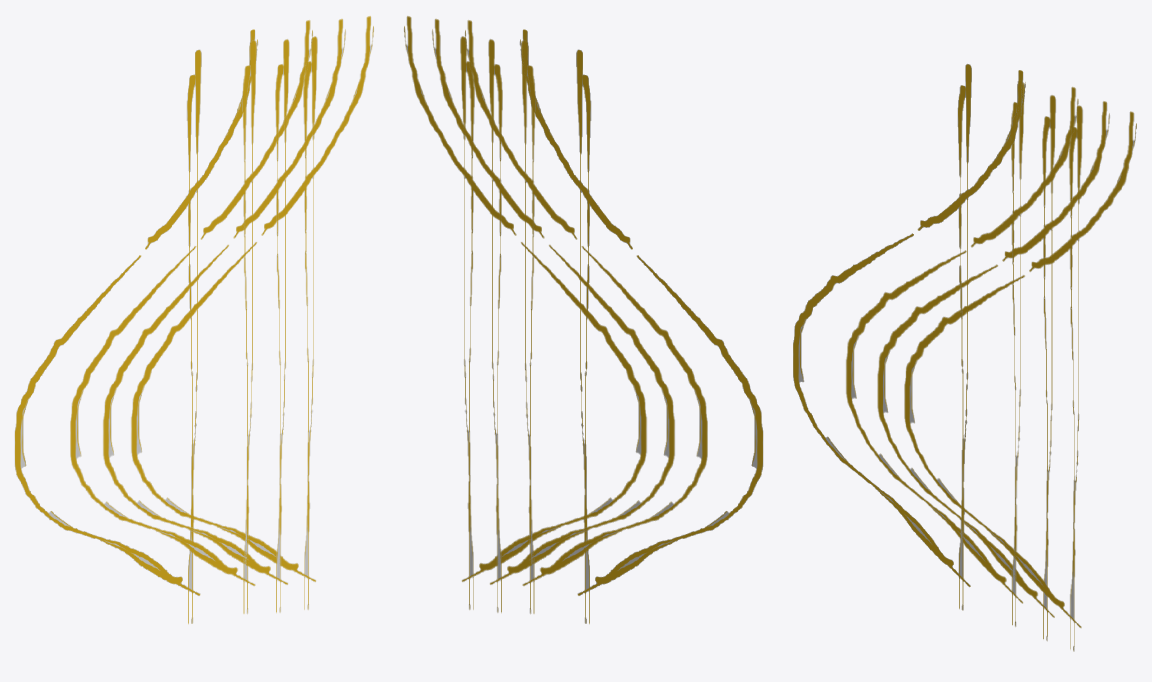
The model's file is claradix-spiral-model.glb.
3 renders of one model, left to right at view 1: azimuth 30°, elevation 25°; view 2: azimuth 150°, elevation 25°; view 3: azimuth 330°, elevation 25°, orthographic. The views are drawn at different scales.
Visible parts, largest first — view 1: mesh_id117, mesh_id118, mesh_id119, mesh_id115, mesh_id104; view 2: mesh_id117, mesh_id118, mesh_id119, mesh_id115, mesh_id104; view 3: mesh_id118, mesh_id115, mesh_id119, mesh_id117, mesh_id104.
Part boxes in pixels (<box>): mesh_id117: <box>70,20,312,613</box>; mesh_id118: <box>103,19,345,612</box>; mesh_id119: <box>131,16,373,609</box>; mesh_id115: <box>15,29,257,623</box>; mesh_id104: <box>15,30,254,623</box>; mesh_id117: <box>465,20,707,613</box>; mesh_id118: <box>432,19,674,612</box>; mesh_id119: <box>404,16,646,609</box>; mesh_id115: <box>520,29,762,623</box>; mesh_id104: <box>523,30,762,623</box>; mesh_id118: <box>877,95,1109,641</box>; mesh_id115: <box>793,64,1025,609</box>; mesh_id119: <box>904,105,1136,651</box>; mesh_id117: <box>846,81,1078,626</box>; mesh_id104: <box>793,64,1024,609</box>.
Bounding box in the file's own units: 0.7433 × 1.17 × 1.88e-09.
6 materials, 6 textured.
